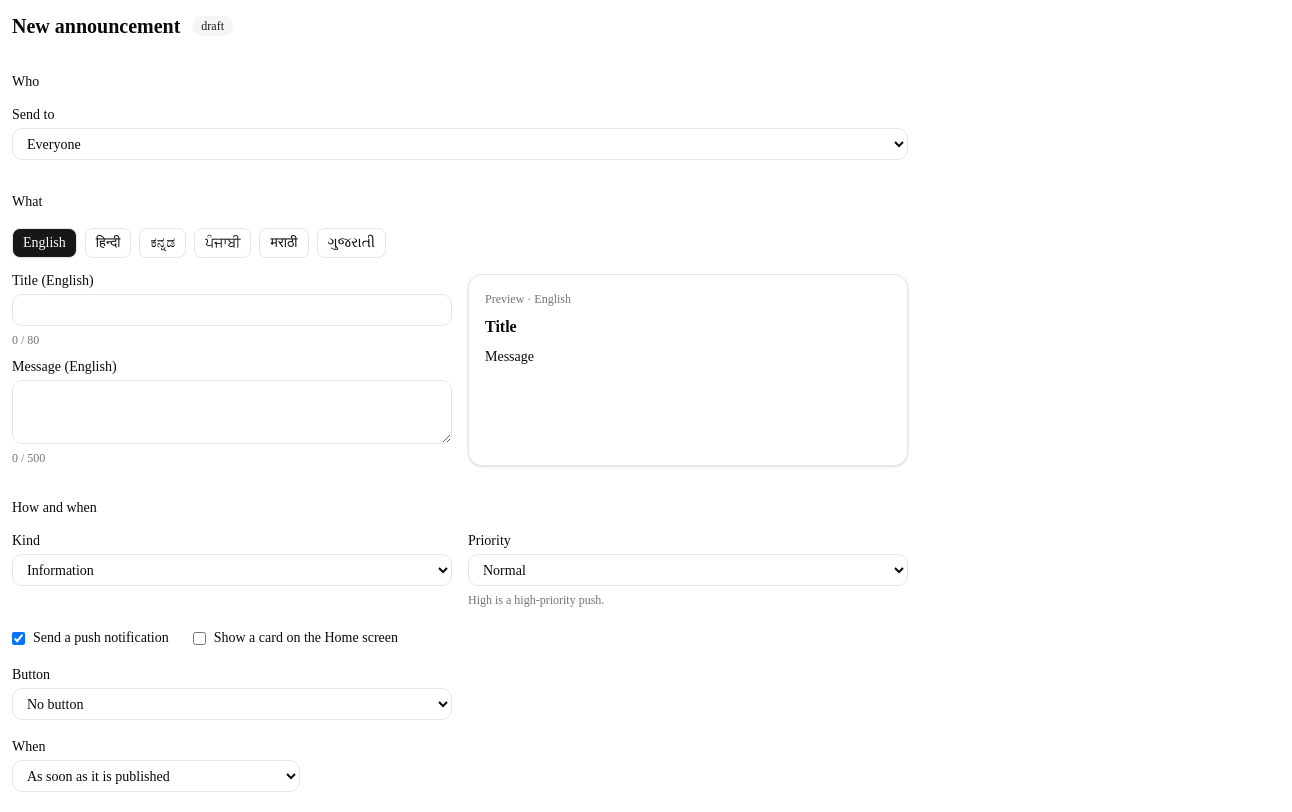
Test: a new announcement › previews the button the app will show, with the default label when none is written
Select "Open a screen of the app" in the dropdown labelled "Button" at [232, 704], box [12, 688, 452, 720]
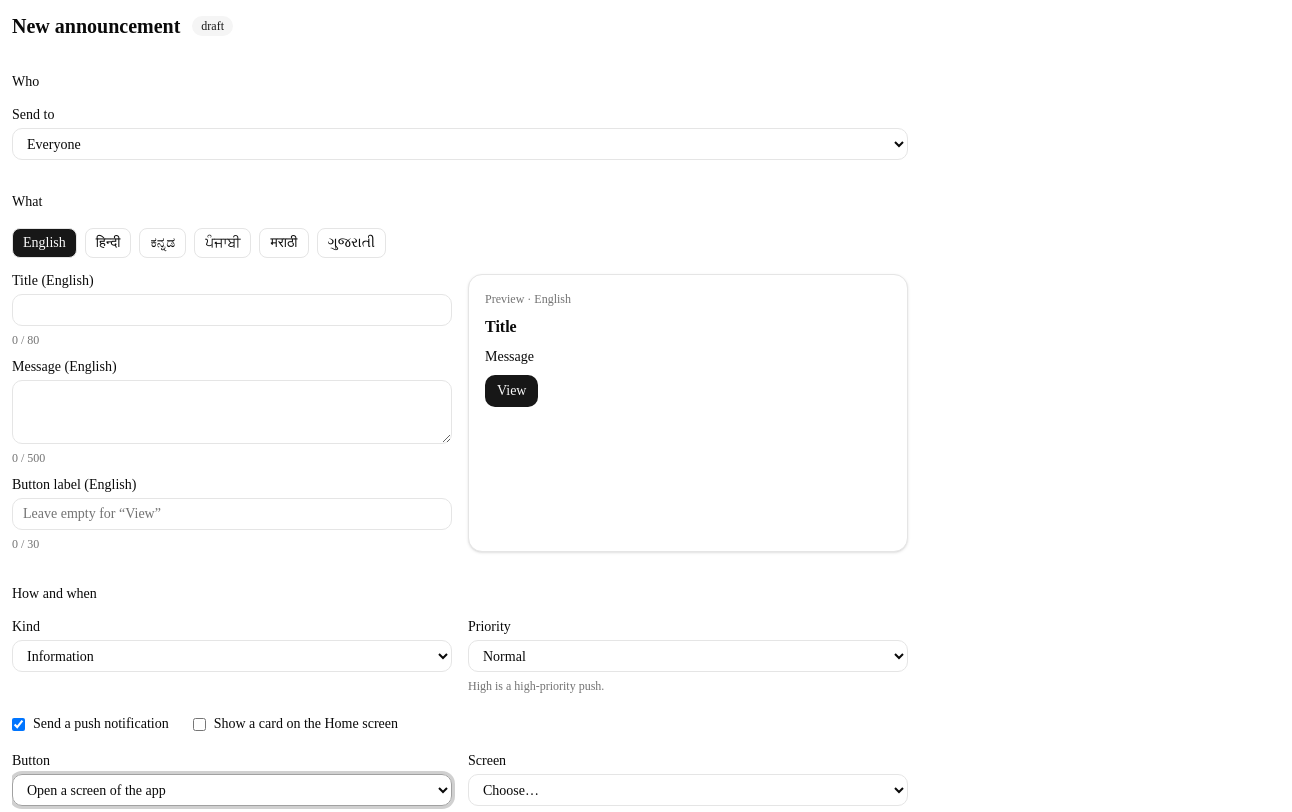
Expected: the text "View" is shown, [485, 375, 538, 407]
Type "Open wallet" into the field labelled "Button label (English)" at [232, 514], box [12, 498, 452, 530]
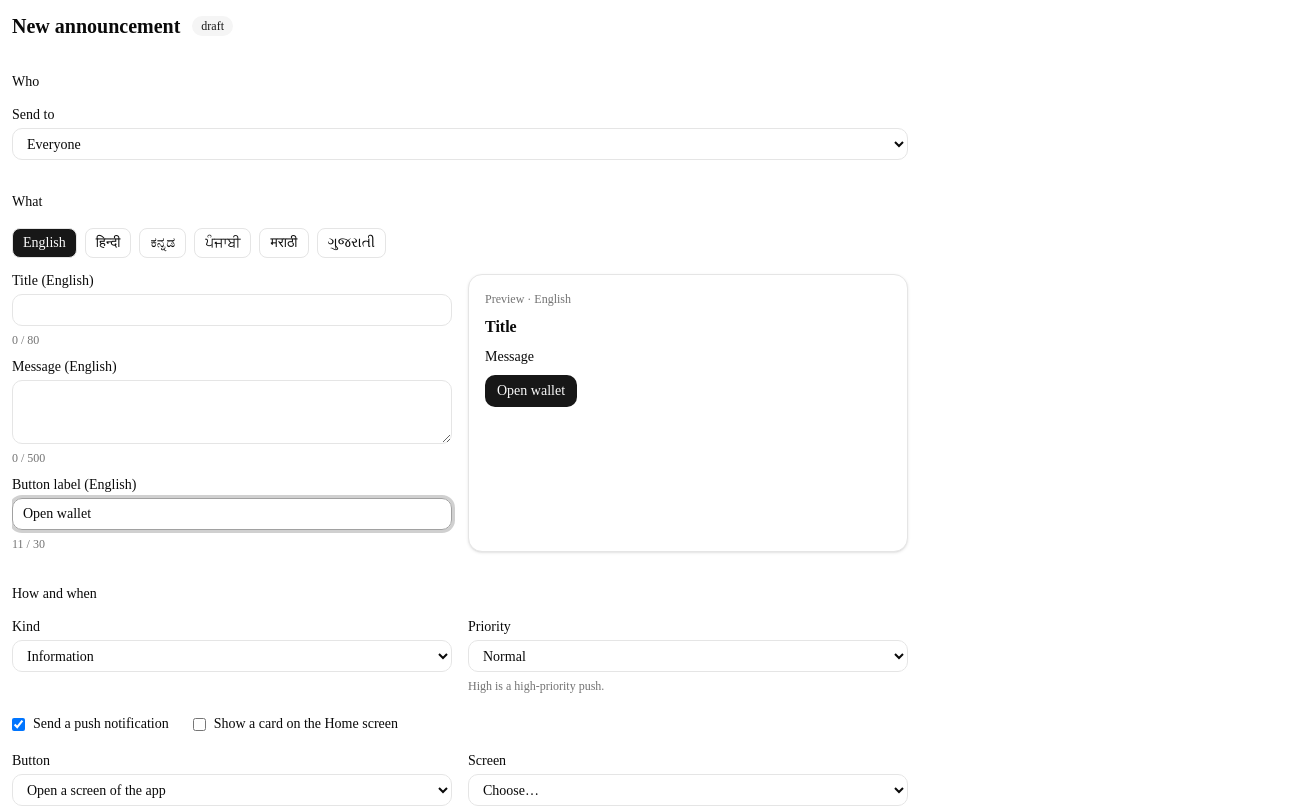
Expected: the text "Open wallet" is shown, [485, 375, 577, 407]
